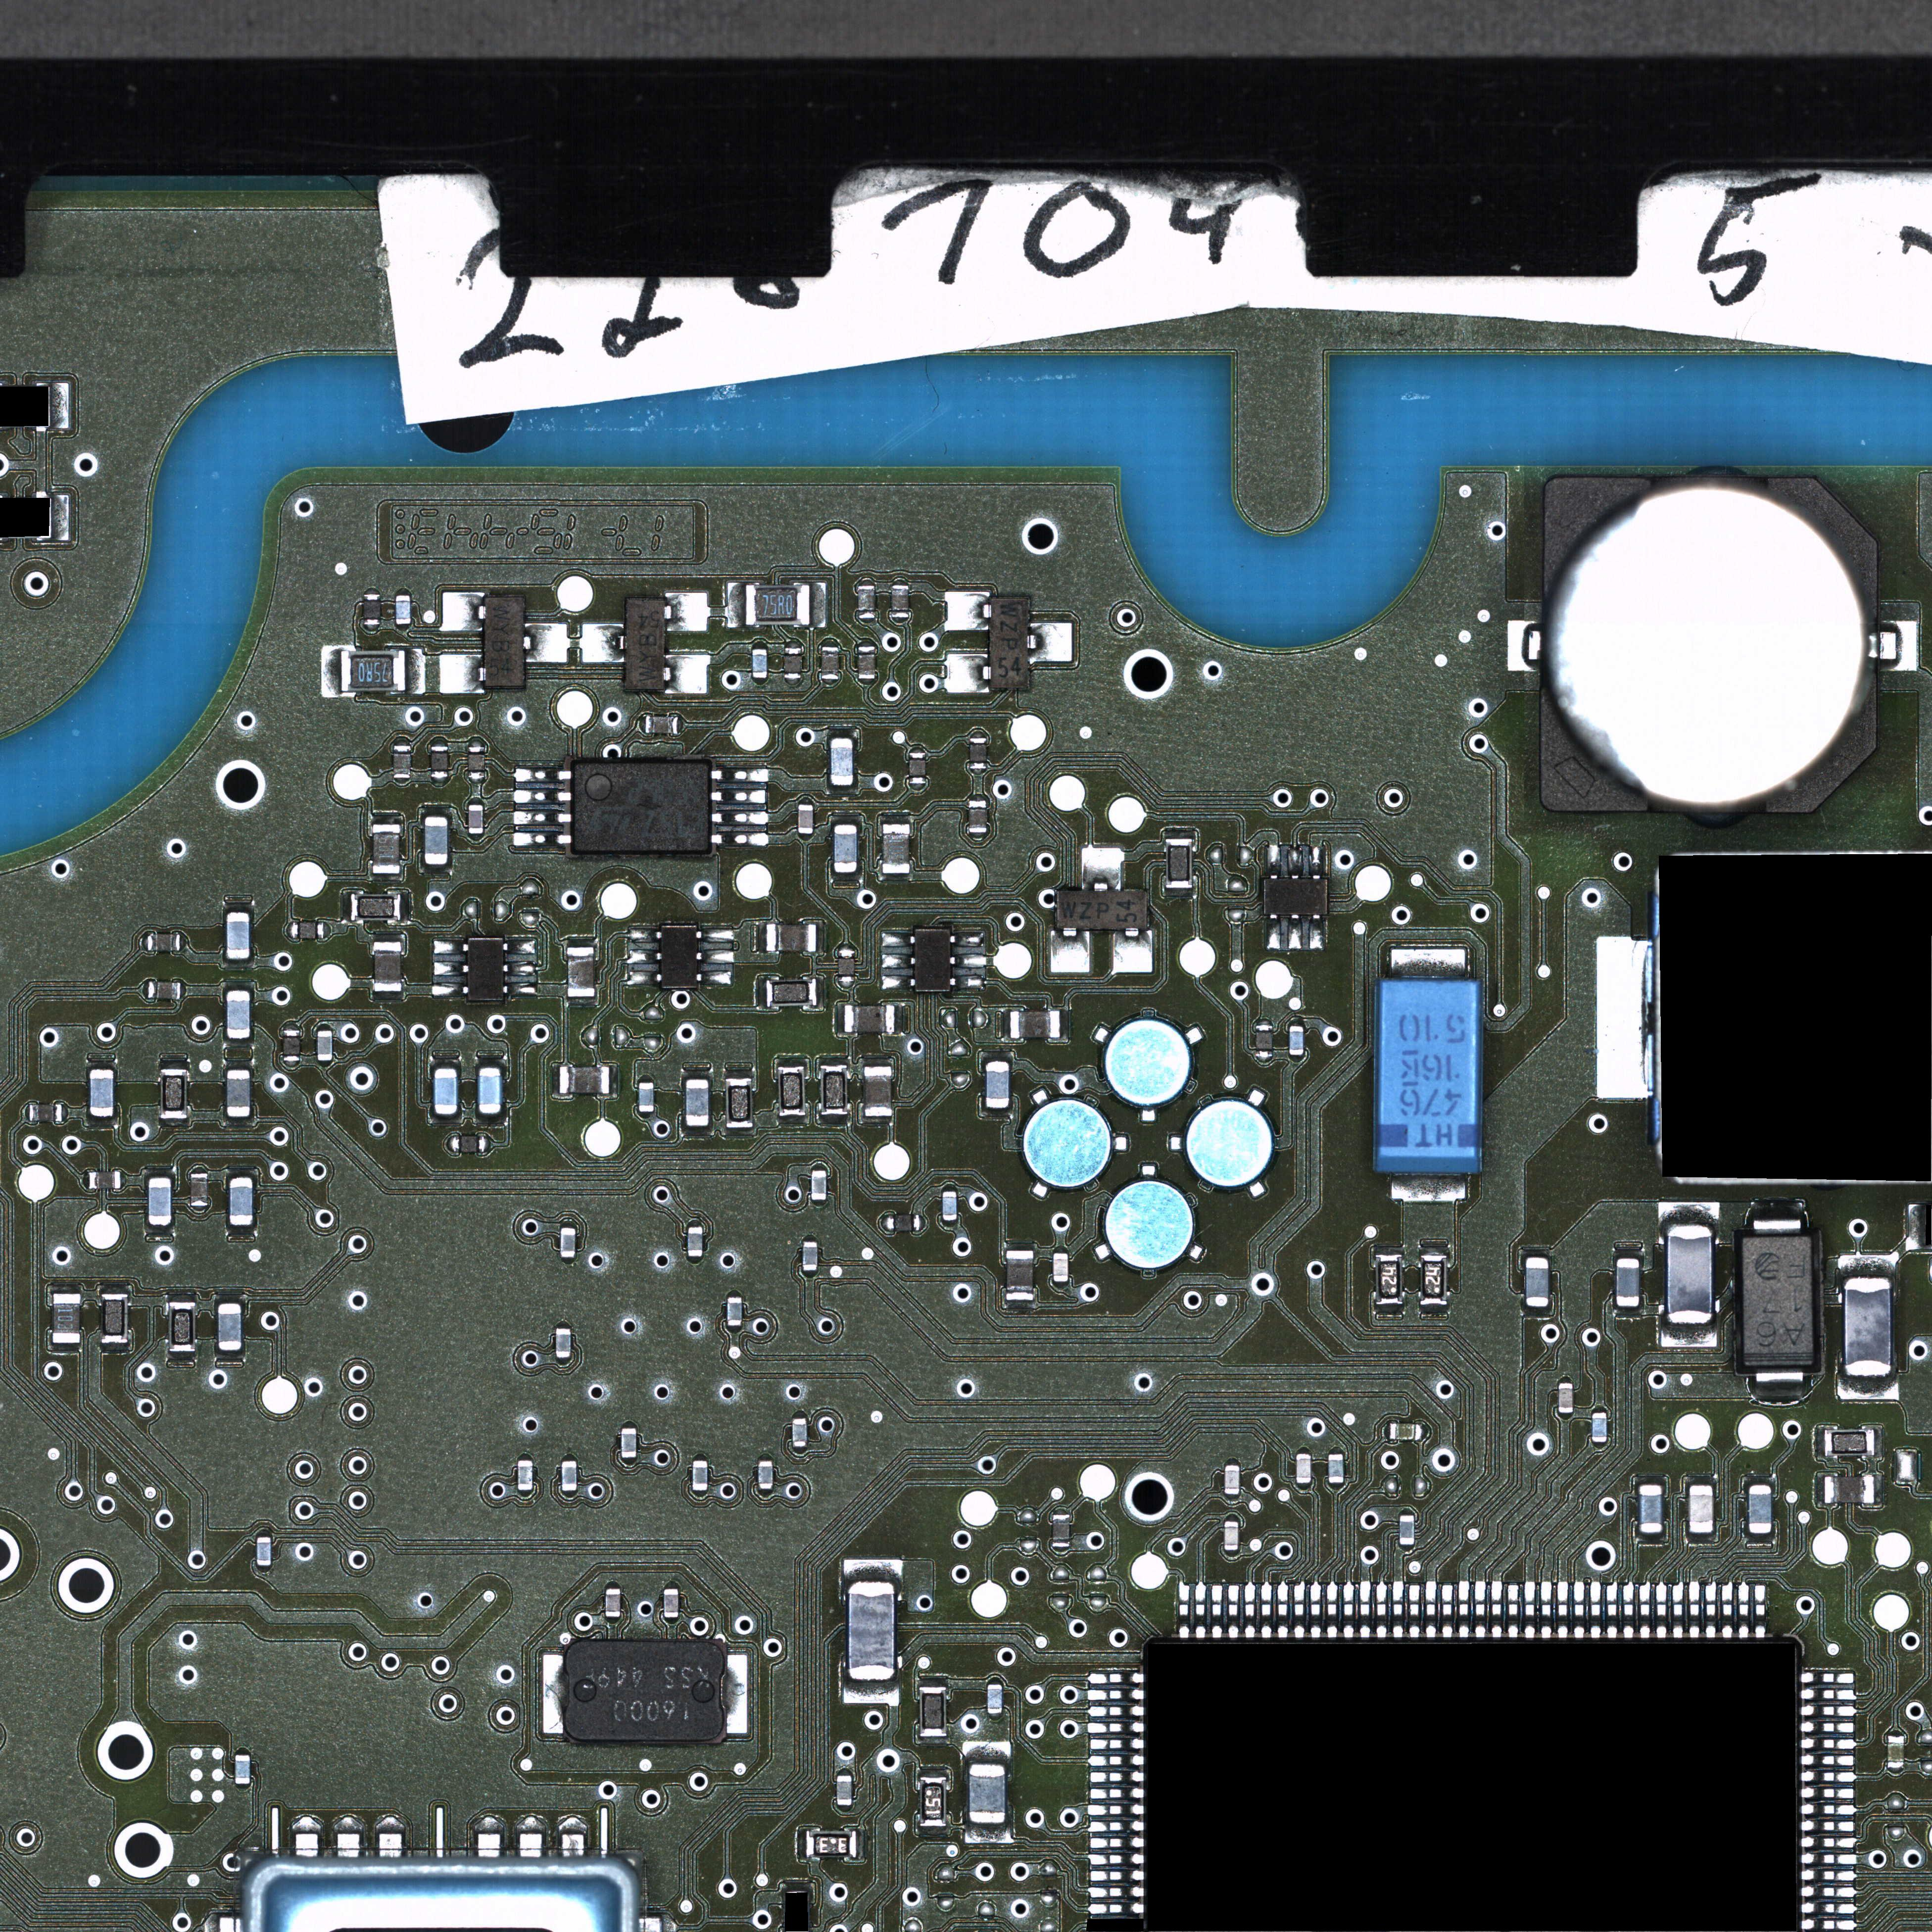Package: (1541, 478, 1877, 812), (1378, 980, 1479, 1173), (566, 1640, 725, 1743), (573, 761, 709, 851), (1741, 1237, 1813, 1368), (1844, 1277, 1891, 1376), (1667, 1226, 1713, 1323), (849, 1582, 893, 1679), (485, 596, 524, 686), (1058, 890, 1146, 929), (626, 598, 663, 690), (991, 598, 1028, 688), (745, 586, 810, 625), (341, 651, 405, 690), (970, 1764, 1007, 1824), (1265, 879, 1327, 915), (662, 925, 695, 985), (916, 929, 950, 989), (469, 939, 502, 998), (842, 1005, 895, 1033), (372, 824, 402, 874), (766, 978, 817, 1007), (766, 924, 817, 952), (350, 893, 402, 922), (566, 947, 594, 996), (863, 1067, 892, 1116), (819, 1065, 847, 1115), (918, 1688, 947, 1737), (777, 1067, 805, 1116), (1824, 1476, 1874, 1504), (161, 1069, 188, 1120), (559, 1067, 610, 1093), (1824, 1430, 1875, 1456), (373, 943, 402, 991), (53, 1295, 81, 1343), (1166, 839, 1192, 888), (725, 1079, 752, 1129), (883, 824, 909, 874), (1007, 1251, 1033, 1300), (1376, 1254, 1403, 1304), (1010, 1012, 1060, 1039), (807, 1831, 856, 1858), (1421, 1254, 1447, 1304), (1615, 1258, 1640, 1307), (103, 1293, 127, 1343), (920, 1776, 945, 1826), (90, 1069, 115, 1116), (833, 824, 858, 872), (170, 1304, 195, 1352), (1638, 1484, 1663, 1532), (226, 1070, 251, 1116), (230, 1177, 253, 1226), (478, 1069, 502, 1115), (985, 1062, 1010, 1108), (1525, 1258, 1548, 1307), (218, 1304, 242, 1350), (1748, 1486, 1773, 1532), (425, 816, 448, 863), (149, 1178, 172, 1226), (830, 738, 853, 786), (1690, 1486, 1713, 1534), (685, 1081, 709, 1125), (433, 1069, 456, 1115), (226, 913, 249, 959), (226, 991, 249, 1037), (968, 801, 987, 833), (858, 646, 876, 679), (858, 586, 876, 619), (147, 982, 180, 1000), (1389, 1422, 1422, 1440), (821, 648, 839, 679), (1053, 1514, 1070, 1546), (784, 648, 801, 679), (393, 747, 410, 778), (430, 747, 448, 778), (189, 1173, 207, 1205), (892, 586, 909, 617), (646, 717, 678, 734), (970, 738, 987, 770), (837, 950, 855, 982), (30, 1104, 62, 1122), (88, 1171, 120, 1189), (147, 934, 180, 950), (363, 594, 380, 625), (1254, 1026, 1272, 1056), (517, 1460, 534, 1490), (294, 922, 324, 939), (909, 754, 927, 784), (283, 1030, 299, 1062), (453, 1136, 485, 1152), (317, 1030, 333, 1062), (837, 1775, 853, 1806), (469, 747, 485, 778), (1888, 1736, 1904, 1767), (888, 1215, 920, 1231), (1053, 1253, 1069, 1283), (798, 805, 814, 835), (727, 1297, 743, 1327), (639, 1083, 655, 1113), (810, 1169, 826, 1200), (561, 1461, 577, 1491), (987, 1684, 1003, 1714), (752, 649, 768, 679), (556, 1329, 571, 1359), (692, 1460, 708, 1490), (621, 1428, 637, 1458), (605, 1589, 621, 1617), (663, 1589, 679, 1617), (757, 1461, 773, 1490), (1399, 1514, 1414, 1546), (688, 1226, 702, 1258), (469, 805, 485, 833), (1559, 1382, 1573, 1414), (1329, 1454, 1345, 1483), (1224, 1465, 1240, 1493), (793, 1417, 807, 1447), (943, 1191, 957, 1221), (396, 594, 410, 625), (1592, 1412, 1606, 1442), (561, 1228, 575, 1258), (1224, 1522, 1238, 1552), (1290, 1026, 1304, 1056), (803, 1242, 817, 1270), (235, 1755, 249, 1783), (257, 1537, 271, 1566), (1297, 1454, 1311, 1483)
Solder: (1594, 936, 1649, 1100), (1391, 1175, 1465, 1205), (1391, 948, 1465, 977), (524, 623, 571, 663), (1881, 621, 1918, 672), (1030, 623, 1074, 665), (943, 653, 989, 694), (1111, 931, 1152, 977), (945, 591, 989, 632), (439, 593, 485, 632), (439, 655, 485, 694), (1752, 1201, 1805, 1235), (1081, 847, 1122, 890), (665, 593, 708, 632), (1051, 931, 1090, 973), (582, 625, 625, 663), (665, 655, 708, 694), (1507, 619, 1537, 672), (1836, 1376, 1900, 1401), (727, 1654, 747, 1734), (543, 1654, 563, 1734), (1658, 1201, 1720, 1226), (1753, 1368, 1805, 1396), (1838, 1254, 1898, 1277), (1660, 1323, 1718, 1346), (844, 1559, 902, 1582), (842, 1683, 899, 1704), (513, 789, 571, 807), (405, 648, 426, 695), (320, 646, 340, 697), (711, 810, 770, 826), (711, 768, 770, 784), (513, 810, 571, 826), (962, 1743, 1010, 1762), (513, 768, 571, 784), (711, 787, 768, 803), (966, 1824, 1012, 1844), (1720, 1580, 1734, 1638), (1704, 1580, 1718, 1638), (1654, 1580, 1668, 1638), (1506, 1580, 1520, 1638), (1086, 1852, 1145, 1867), (1424, 1580, 1438, 1637), (1086, 1688, 1143, 1702), (1086, 1704, 1143, 1718), (1086, 1753, 1143, 1767), (1086, 1803, 1143, 1817), (727, 584, 745, 628), (1753, 1583, 1767, 1638), (511, 833, 571, 846), (1638, 1578, 1651, 1638), (1589, 1578, 1601, 1638), (1490, 1578, 1502, 1638), (1442, 1578, 1454, 1638), (1392, 1578, 1405, 1638), (1293, 1578, 1306, 1638), (1228, 1578, 1240, 1638), (1210, 1578, 1223, 1638), (53, 382, 69, 428), (1688, 1580, 1700, 1638), (1672, 1580, 1684, 1638), (1622, 1580, 1635, 1638), (1605, 1580, 1617, 1638), (1573, 1580, 1585, 1638), (1557, 1580, 1569, 1638), (1539, 1580, 1552, 1638), (1458, 1580, 1470, 1638), (1408, 1580, 1421, 1638), (1376, 1580, 1389, 1638), (1359, 1580, 1371, 1638), (1327, 1580, 1339, 1638), (1309, 1580, 1322, 1638), (1343, 1580, 1355, 1638), (1277, 1580, 1290, 1638), (1260, 1580, 1272, 1638), (1244, 1578, 1256, 1637), (1194, 1580, 1207, 1638), (1178, 1580, 1191, 1638), (1086, 1902, 1145, 1914), (1086, 1886, 1145, 1898), (1907, 1205, 1923, 1249), (711, 833, 768, 846), (1737, 1582, 1750, 1638), (1523, 1582, 1536, 1638), (1474, 1580, 1486, 1637), (1801, 1688, 1858, 1700), (1801, 1706, 1858, 1718), (1801, 1737, 1858, 1750), (1801, 1721, 1858, 1734), (1801, 1771, 1858, 1783), (1801, 1755, 1858, 1767), (1801, 1803, 1858, 1815), (1801, 1821, 1858, 1833), (1801, 1836, 1858, 1849), (1801, 1852, 1858, 1865), (1801, 1884, 1858, 1897), (1801, 1918, 1858, 1930), (1801, 1902, 1858, 1914), (1086, 1672, 1143, 1684), (1086, 1721, 1143, 1734), (1086, 1771, 1143, 1783), (1086, 1737, 1143, 1750), (1086, 1787, 1143, 1799), (1086, 1821, 1143, 1833), (1088, 1836, 1145, 1849), (1088, 1870, 1145, 1882), (1801, 1672, 1854, 1684), (55, 494, 69, 540), (1801, 1789, 1858, 1799), (1801, 1870, 1858, 1881), (502, 982, 538, 998), (812, 582, 824, 626), (881, 954, 915, 970), (502, 961, 536, 977), (432, 984, 469, 998), (1286, 847, 1302, 879), (1267, 915, 1281, 950), (1288, 915, 1302, 950), (433, 939, 469, 954), (1309, 915, 1323, 950), (1267, 844, 1281, 879), (626, 950, 662, 964), (626, 971, 662, 985), (697, 971, 732, 985), (881, 932, 915, 947), (502, 939, 536, 954), (1309, 846, 1323, 879), (950, 932, 984, 947), (950, 955, 987, 968), (697, 929, 734, 941), (697, 950, 734, 962), (433, 962, 469, 975), (628, 929, 662, 941), (950, 977, 984, 989), (881, 977, 915, 989), (1161, 828, 1200, 839), (893, 1003, 906, 1035), (472, 1115, 510, 1125), (1813, 1424, 1824, 1461), (372, 812, 403, 824), (1874, 1472, 1884, 1509), (878, 812, 915, 823), (913, 1675, 950, 1686), (828, 814, 865, 824), (563, 936, 600, 947), (83, 1116, 120, 1127), (428, 1115, 464, 1125), (97, 1283, 133, 1293), (824, 786, 860, 796), (400, 890, 410, 925), (372, 932, 407, 943), (421, 805, 451, 817), (1633, 1474, 1667, 1484), (826, 727, 860, 738), (1683, 1474, 1716, 1484), (978, 1108, 1012, 1118), (428, 1058, 462, 1069), (419, 863, 453, 874), (878, 874, 916, 883), (757, 975, 766, 1014), (720, 1129, 759, 1138), (835, 1003, 846, 1035), (1743, 1474, 1775, 1484), (221, 1039, 253, 1049), (918, 1766, 950, 1776), (214, 1352, 246, 1362), (679, 1067, 711, 1077), (157, 1058, 189, 1069), (223, 901, 255, 911), (828, 872, 865, 881), (1815, 1472, 1824, 1509), (1875, 1424, 1884, 1461), (1683, 1534, 1720, 1543), (563, 996, 600, 1005), (1062, 1007, 1070, 1044), (1001, 1007, 1010, 1044), (773, 1058, 810, 1067), (858, 1116, 895, 1125), (816, 1116, 853, 1125), (856, 1826, 865, 1863), (219, 1118, 257, 1127), (48, 1343, 85, 1352), (46, 1284, 83, 1293), (214, 1293, 244, 1304), (166, 1292, 196, 1302), (724, 1067, 754, 1077), (168, 1352, 198, 1362), (476, 1056, 506, 1067), (1518, 1247, 1553, 1256), (1520, 1307, 1555, 1316), (1371, 1306, 1407, 1315), (1162, 888, 1198, 897), (610, 1063, 619, 1099), (775, 1116, 810, 1125), (341, 888, 350, 924), (1746, 1534, 1775, 1545), (1637, 1532, 1665, 1543), (87, 1058, 115, 1069), (980, 1051, 1014, 1060), (757, 920, 766, 954), (225, 1168, 258, 1177), (1003, 1300, 1037, 1309), (1612, 1249, 1644, 1258), (1417, 1246, 1449, 1254), (1371, 1246, 1403, 1254), (221, 982, 253, 991), (145, 1168, 177, 1177), (143, 1226, 175, 1235), (226, 1226, 258, 1235), (373, 991, 403, 1000), (1419, 1306, 1449, 1315), (918, 1824, 948, 1833), (1005, 1242, 1035, 1251), (798, 1826, 805, 1863), (817, 975, 824, 1012), (817, 920, 824, 957), (552, 1062, 559, 1099), (368, 874, 405, 881), (816, 1058, 853, 1065), (858, 1058, 895, 1065), (915, 1737, 952, 1744), (1612, 1309, 1647, 1316), (225, 1060, 253, 1069), (101, 1343, 129, 1352), (683, 1127, 709, 1136), (159, 1120, 189, 1127), (223, 959, 251, 966), (784, 1884, 812, 1891), (552, 1320, 573, 1329), (662, 1580, 681, 1589), (324, 920, 333, 939), (635, 1113, 658, 1120), (970, 793, 987, 801), (752, 640, 770, 649), (467, 796, 485, 805), (801, 1233, 819, 1242), (621, 1458, 639, 1467), (757, 1490, 775, 1499), (757, 1453, 775, 1461), (517, 1490, 534, 1499), (603, 1580, 621, 1589), (637, 1074, 655, 1083), (255, 1529, 272, 1537), (62, 1102, 69, 1123), (939, 1221, 961, 1228), (180, 932, 188, 954), (561, 1453, 577, 1461), (561, 1219, 577, 1228), (235, 1746, 251, 1755), (235, 1783, 251, 1792), (1286, 1056, 1306, 1063), (908, 784, 927, 791), (837, 982, 856, 989), (430, 778, 449, 786), (856, 679, 876, 686), (821, 679, 840, 686), (784, 640, 803, 648), (800, 1272, 819, 1279), (603, 1617, 623, 1624), (120, 1171, 127, 1191), (281, 1023, 301, 1030), (281, 1062, 301, 1069), (1051, 1283, 1070, 1290), (255, 1566, 274, 1573), (180, 982, 188, 1001), (1051, 1546, 1070, 1553), (1327, 1447, 1345, 1454), (1557, 1414, 1575, 1421), (1591, 1405, 1608, 1412), (1591, 1442, 1608, 1449), (892, 579, 909, 586), (858, 579, 876, 586), (892, 617, 909, 625), (970, 731, 987, 738), (798, 835, 816, 842), (837, 943, 855, 950), (446, 1136, 453, 1154), (467, 740, 485, 747), (784, 679, 801, 686), (395, 587, 412, 594), (395, 625, 412, 632), (363, 587, 380, 594), (363, 625, 380, 632), (467, 833, 485, 840), (678, 717, 685, 734), (639, 717, 646, 734), (810, 1162, 828, 1169), (810, 1200, 828, 1207), (725, 1290, 743, 1297), (725, 1327, 743, 1334), (621, 1421, 639, 1428), (692, 1490, 709, 1497), (791, 1447, 809, 1454), (791, 1410, 809, 1417), (561, 1491, 579, 1499), (517, 1453, 534, 1460), (837, 1806, 855, 1813), (985, 1677, 1003, 1684), (189, 1166, 207, 1173), (81, 1171, 88, 1189), (941, 1184, 959, 1191), (554, 1359, 571, 1366), (559, 1258, 577, 1265), (686, 1258, 704, 1265), (686, 1219, 704, 1226), (1053, 1507, 1070, 1514), (1422, 1424, 1430, 1440), (1224, 1513, 1240, 1520), (1224, 1458, 1240, 1465), (1288, 1019, 1304, 1026), (1256, 1019, 1272, 1026), (856, 619, 878, 625), (798, 796, 814, 803), (432, 740, 448, 747), (395, 740, 410, 747), (395, 778, 410, 786), (823, 640, 839, 648), (692, 1453, 708, 1460), (837, 1767, 853, 1775), (987, 1714, 1003, 1721), (317, 1062, 333, 1069), (317, 1023, 333, 1030), (287, 920, 292, 941), (881, 1215, 888, 1231), (1053, 1246, 1069, 1253), (142, 980, 147, 1001), (1223, 1495, 1242, 1500), (1254, 1058, 1274, 1063), (968, 833, 987, 839), (1886, 1730, 1905, 1736), (189, 1207, 209, 1212), (1399, 1507, 1414, 1514), (1398, 1546, 1415, 1552), (1295, 1484, 1313, 1490), (1327, 1484, 1345, 1490), (970, 770, 987, 775), (909, 747, 927, 752), (467, 778, 485, 784), (858, 640, 876, 646), (1888, 1769, 1905, 1775), (25, 1104, 30, 1122), (142, 934, 147, 952), (1384, 1424, 1389, 1440), (1224, 1552, 1240, 1557), (1295, 1447, 1311, 1453), (485, 1136, 490, 1152), (752, 679, 768, 685), (663, 1619, 679, 1624), (920, 1215, 925, 1231), (1559, 1376, 1573, 1382)
